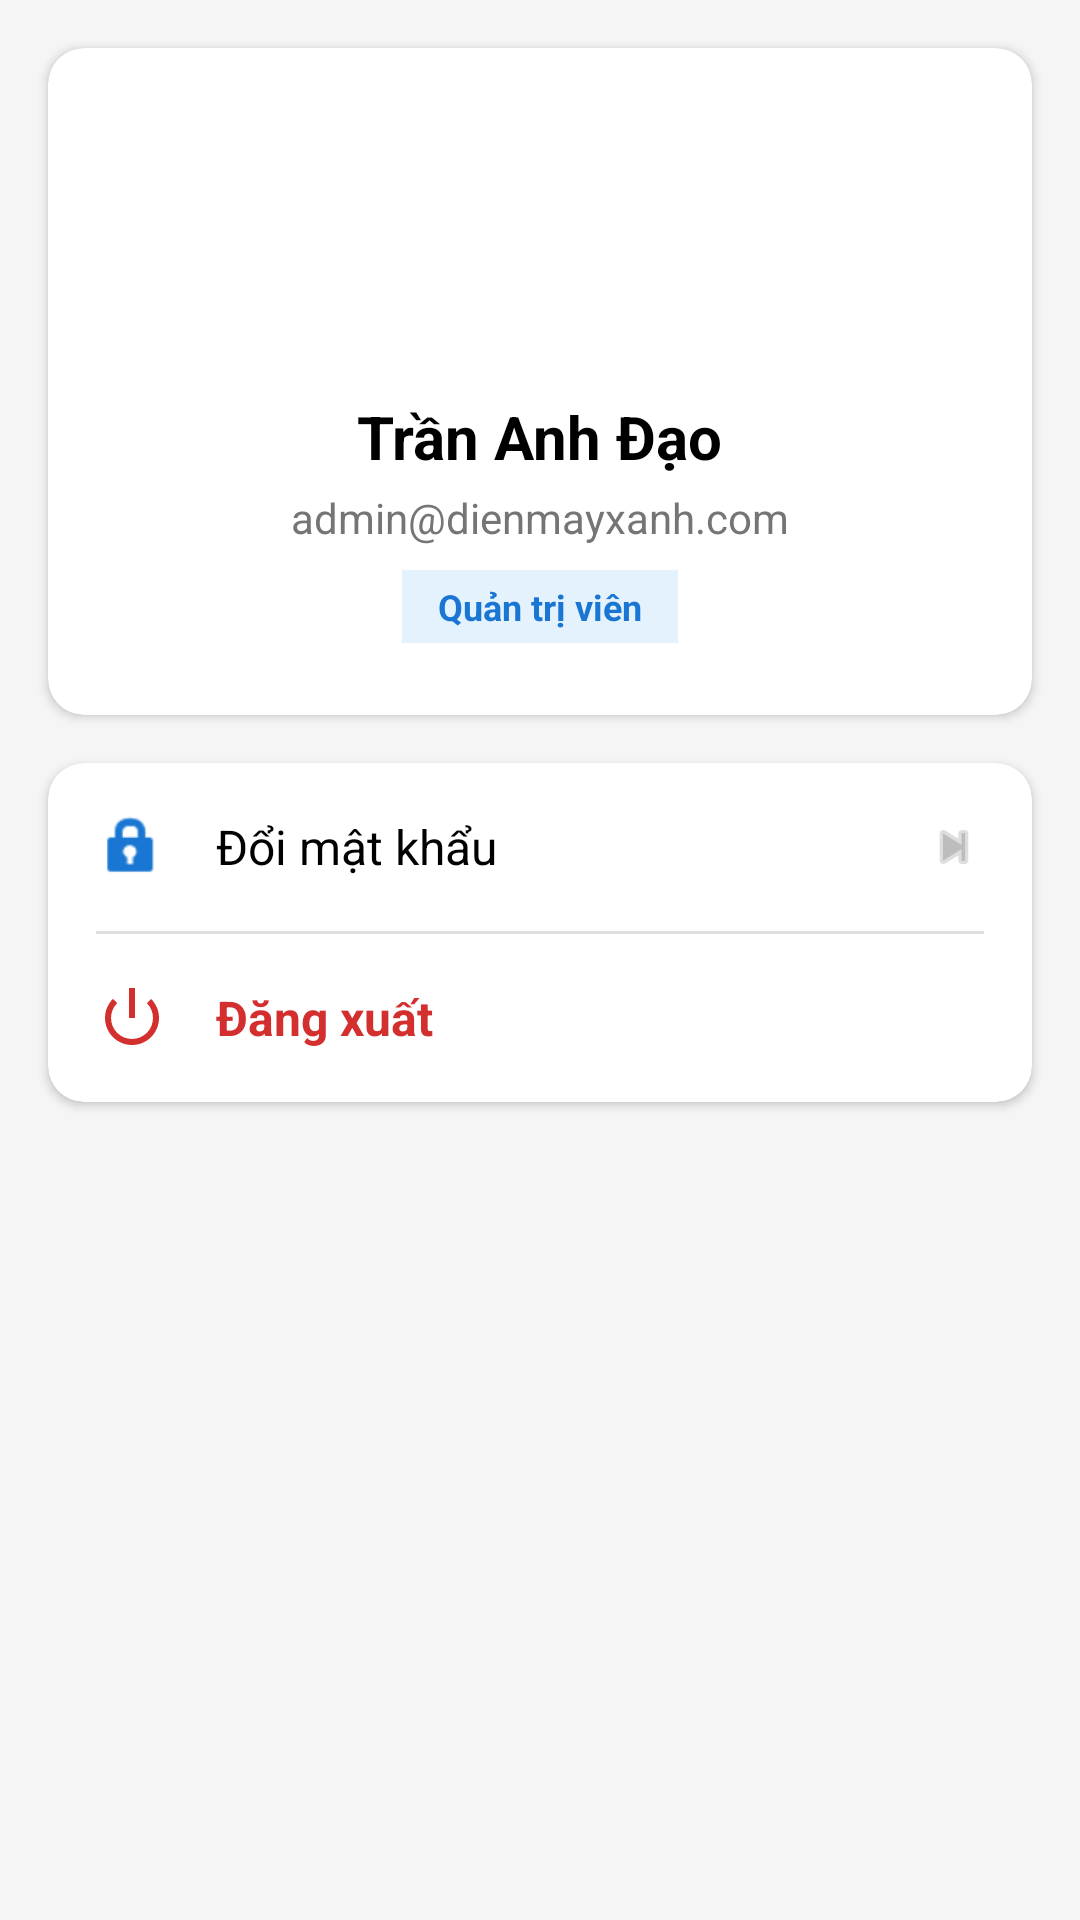

Icon click points for this 1080*1920 phone screenshot, format [x,y]:
lock idle: [130,844]
lock power off: [132,1016]
next: [954,847]
